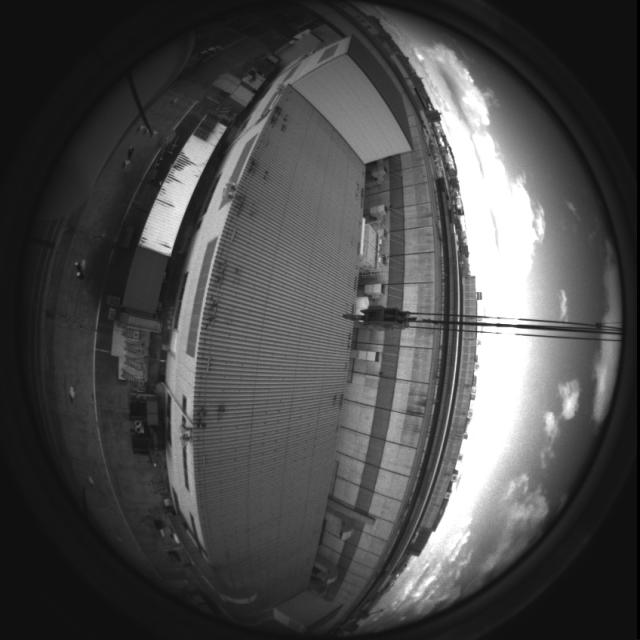rope: (329, 301, 636, 346)
sky: (322, 2, 620, 637)
